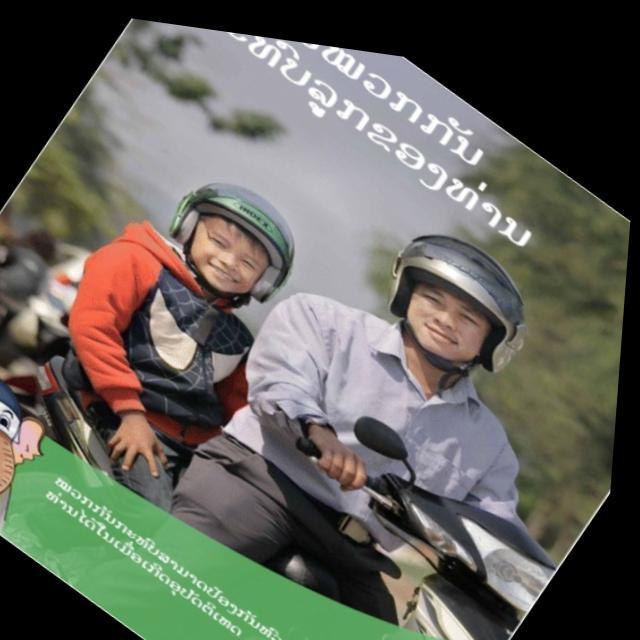Helmet: (376, 222, 528, 389), (166, 178, 297, 307)
